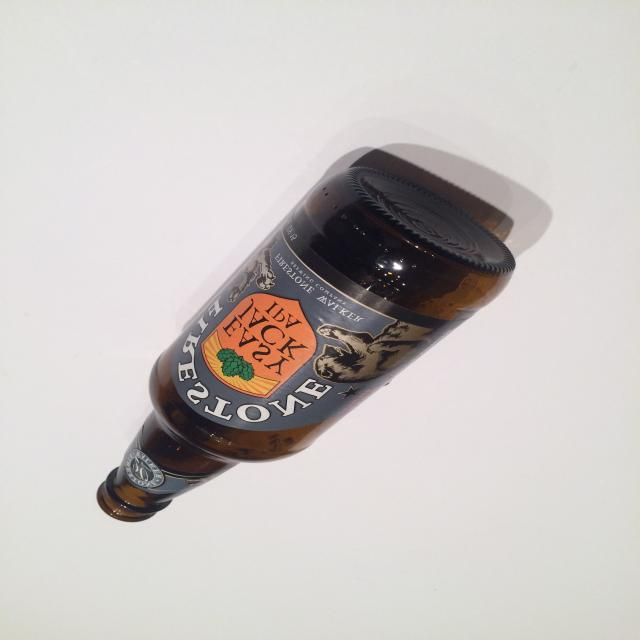glass: (99, 159, 517, 524)
